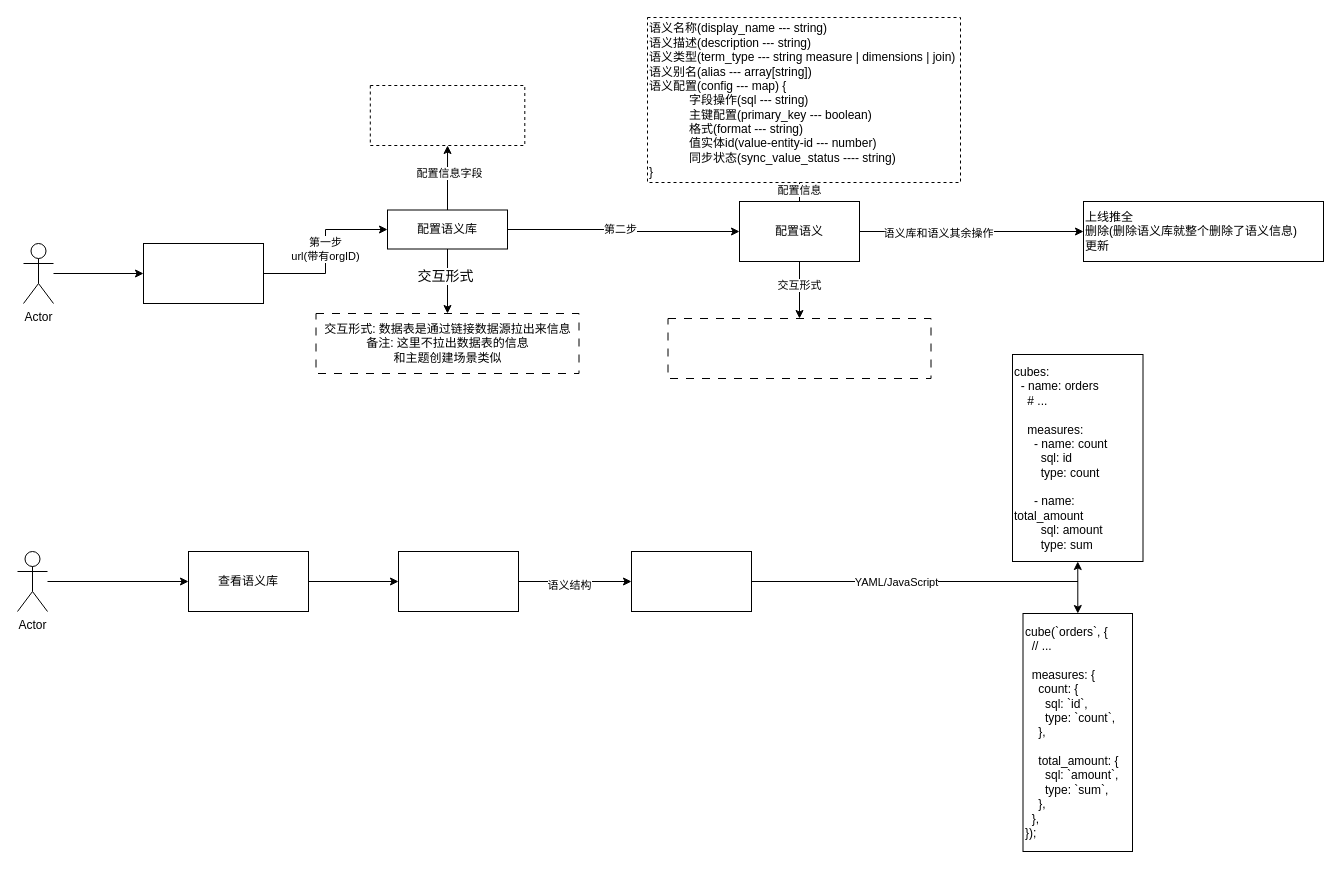
Some shapes in this 1341 by 869 pixel diagram are drawn without their labels. Each missing label, with the centre of its shape:
"交互形式: 拉出表的字段信息和计算函数进行config的配置" belongs at (799,348).
"添加语义库" belongs at (203,273).
"语义库和语义二级表 清楚查看语义库下的语义表信息" belongs at (458,581).
"语义结构(Yaml和JavaScript)" belongs at (691,581).
"选择主题场景(topic) 选择数据库(datasource_id) 选择表(sql) 描述(description)" belongs at (447,115).
